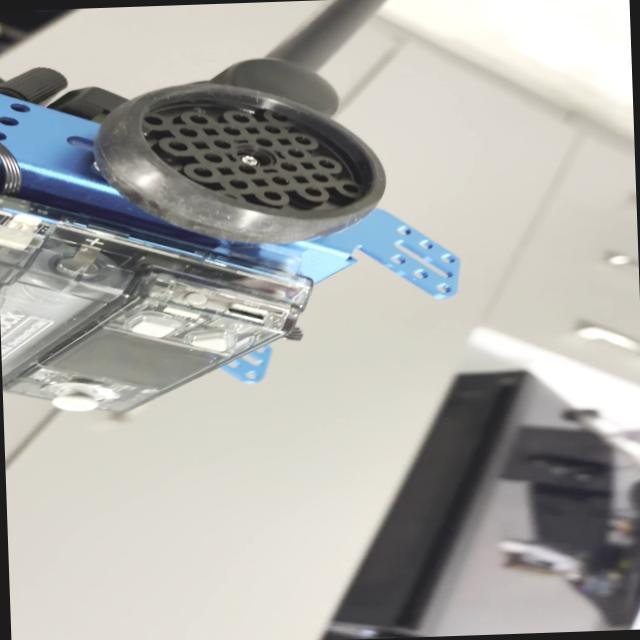mbot-detection: (0, 71, 473, 422)
